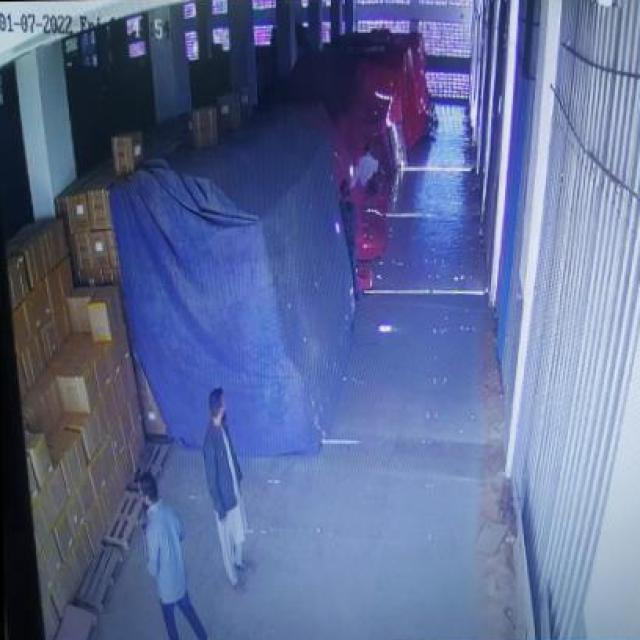fire: (346, 150, 380, 196)
